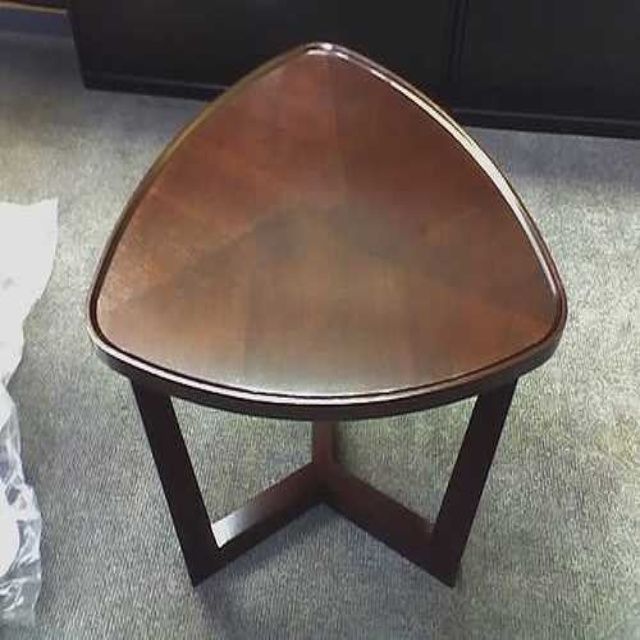obstacle: (88, 44, 566, 582), (0, 382, 41, 625)
